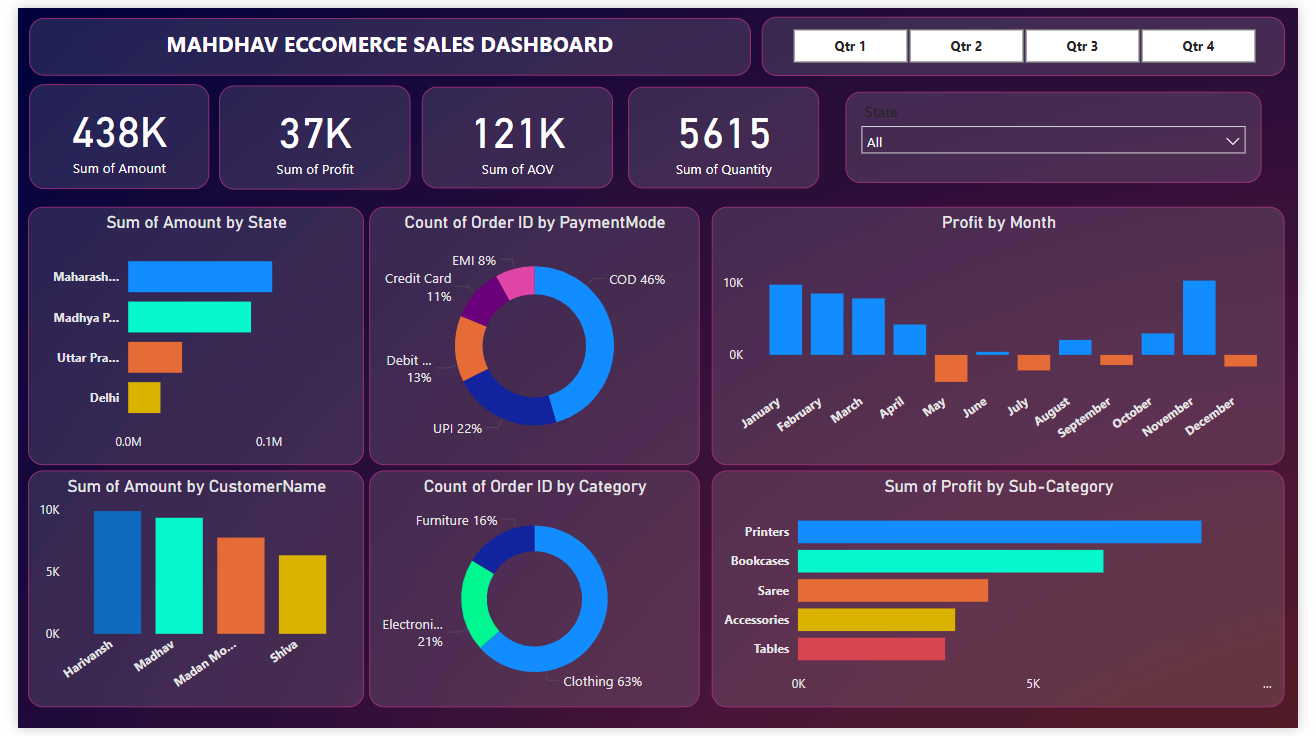

Layout of this report page (visuals, bound fields, positions):
{"tool":"powerbi","page":{"name":"Page 1","canvas":[1280,720],"ordinal":0},"visuals":[{"type":"textbox","box":[10.9,9.7,721.5,57.9],"z":0},{"type":"columnChart","title":"Profit by Month","fields":{"Category":["Orders (1).Order Date.Variation.Date Hierarchy.Month"],"Y":["Details (1).Profit"]},"box":[693.7,199.1,573.1,258.2],"z":1000},{"type":"barChart","fields":{"Category":["Details (1).Sub-Category"],"Y":["Details (1).Profit"]},"box":[694.3,462.9,572.9,237.1],"z":2000},{"type":"donutChart","fields":{"Y":["Details (1).Order ID"],"Category":["Details (1).PaymentMode"]},"box":[351.4,198.6,330,258.6],"z":3000},{"type":"donutChart","fields":{"Category":["Details (1).Category"],"Y":["Details (1).Order ID"]},"box":[351.4,462.9,330,237.1],"z":4000},{"type":"card","fields":{"Values":["Details (1).Amount"]},"box":[11.1,76.7,180,104.4],"z":5000},{"type":"card","fields":{"Values":["Details (1).Quantity"]},"box":[610,78.6,191.4,101.4],"z":6000},{"type":"card","fields":{"Values":["Details (1).Profit"]},"box":[201.4,77.1,191.4,104.3],"z":7000},{"type":"card","fields":{"Values":["Details (1).AOV"]},"box":[404.3,78.6,191.4,101.4],"z":8000},{"type":"barChart","fields":{"Category":["Orders (1).State"],"Y":["Details (1).Amount"]},"box":[10,198.6,335.7,258.6],"z":9000},{"type":"columnChart","fields":{"Category":["Orders (1).CustomerName"],"Y":["Details (1).Amount"]},"box":[10,462.9,335.7,237.1],"z":10000},{"type":"slicer","fields":{"Values":["Orders (1).Order Date.Variation.Date Hierarchy.Quarter"]},"box":[743.2,8.4,523.6,59.1],"z":11000},{"type":"slicer","fields":{"Values":["Orders (1).State"]},"box":[827.1,84.3,415.7,91.4],"z":12000}]}

Visuals, with their boxes in screenshot pixels (x1, y1, x2, y2), scaled from the page's 1280x720 canvas onto the 1316x736 screenshot:
textbox: x1=11, y1=10, x2=753, y2=69
"Profit by Month" columnChart: x1=713, y1=204, x2=1302, y2=467
barChart - Details (1).Sub-Category x Details (1).Profit: x1=714, y1=473, x2=1303, y2=716
donutChart - Details (1).Order ID x Details (1).PaymentMode: x1=361, y1=203, x2=701, y2=467
donutChart - Details (1).Category x Details (1).Order ID: x1=361, y1=473, x2=701, y2=716
card - Details (1).Amount: x1=11, y1=78, x2=196, y2=185
card - Details (1).Quantity: x1=627, y1=80, x2=824, y2=184
card - Details (1).Profit: x1=207, y1=79, x2=404, y2=185
card - Details (1).AOV: x1=416, y1=80, x2=612, y2=184
barChart - Orders (1).State x Details (1).Amount: x1=10, y1=203, x2=355, y2=467
columnChart - Orders (1).CustomerName x Details (1).Amount: x1=10, y1=473, x2=355, y2=716
slicer - Orders (1).Order Date.Variation.Date Hierarchy.Quarter: x1=764, y1=9, x2=1302, y2=69
slicer - Orders (1).State: x1=850, y1=86, x2=1278, y2=180
